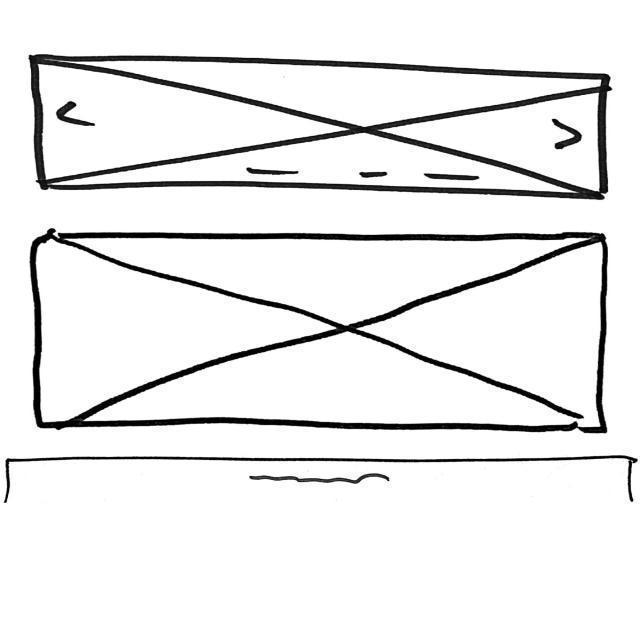image: (29, 229, 611, 437), (29, 52, 614, 202)
text: (248, 468, 395, 489)
